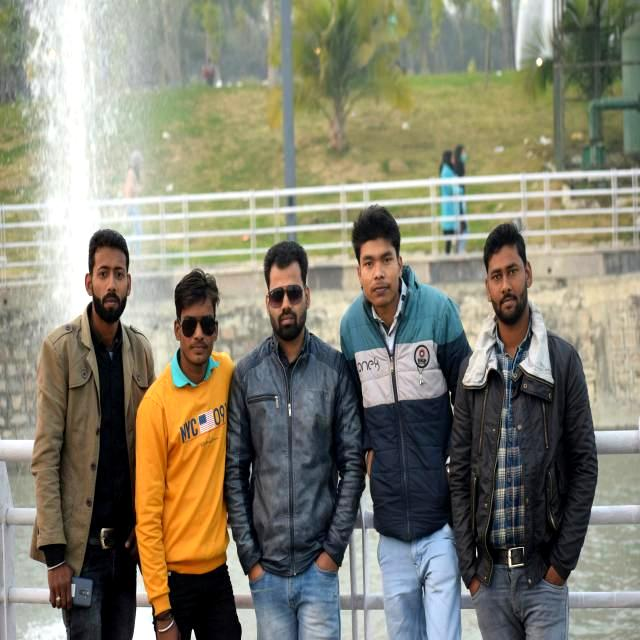no_head_wear: (352, 205, 401, 262), (484, 222, 527, 270), (264, 241, 308, 287), (174, 268, 220, 309), (89, 229, 129, 261)
person: (449, 223, 598, 640), (340, 205, 470, 640), (226, 241, 360, 640), (31, 229, 154, 640), (136, 269, 241, 640)
